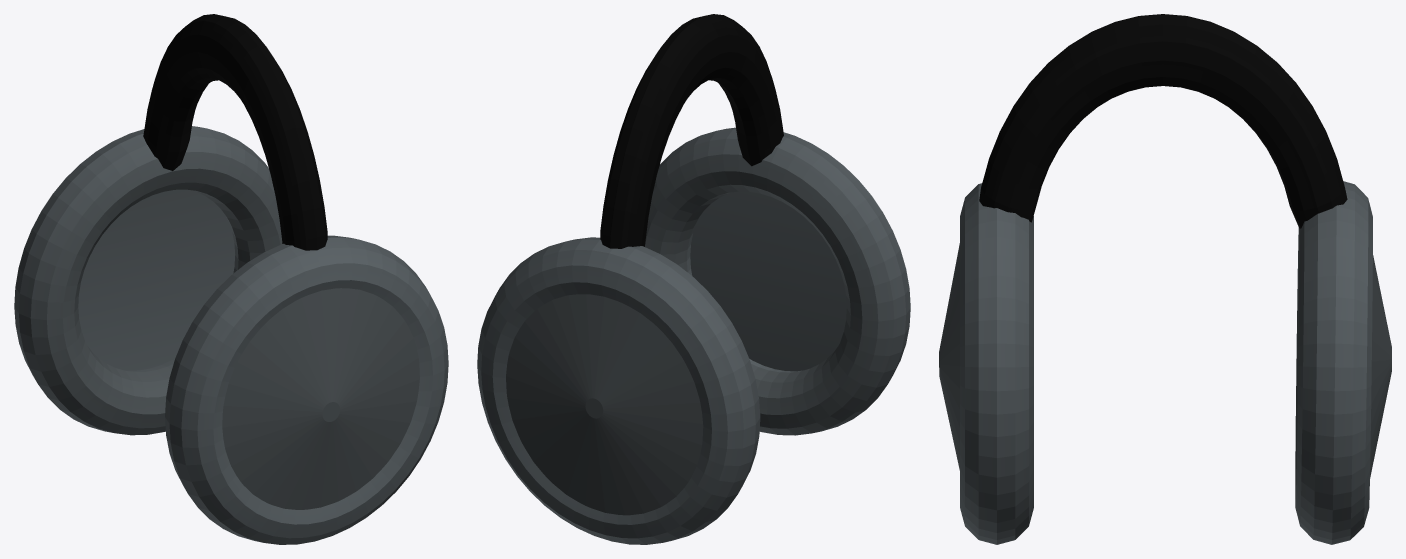
File: Headphones.fbx
The picture shows the model from 3 angles, left to right: view 1: azimuth 30°, elevation 25°; view 2: azimuth 150°, elevation 25°; view 3: azimuth 270°, elevation 25°; orthographic projection. The views are drawn at different scales.
Parts seen in each view (by area): view 1: Torus.001; view 2: Torus.001; view 3: Torus.001.
Part boxes in pixels (left/top/right/bottom): Torus.001: left=14, top=14, right=448, bottom=544; Torus.001: left=477, top=14, right=910, bottom=544; Torus.001: left=939, top=14, right=1391, bottom=544.
Size of the model in its own units: 107 by 136 by 172.
2 materials, 2 textured.
